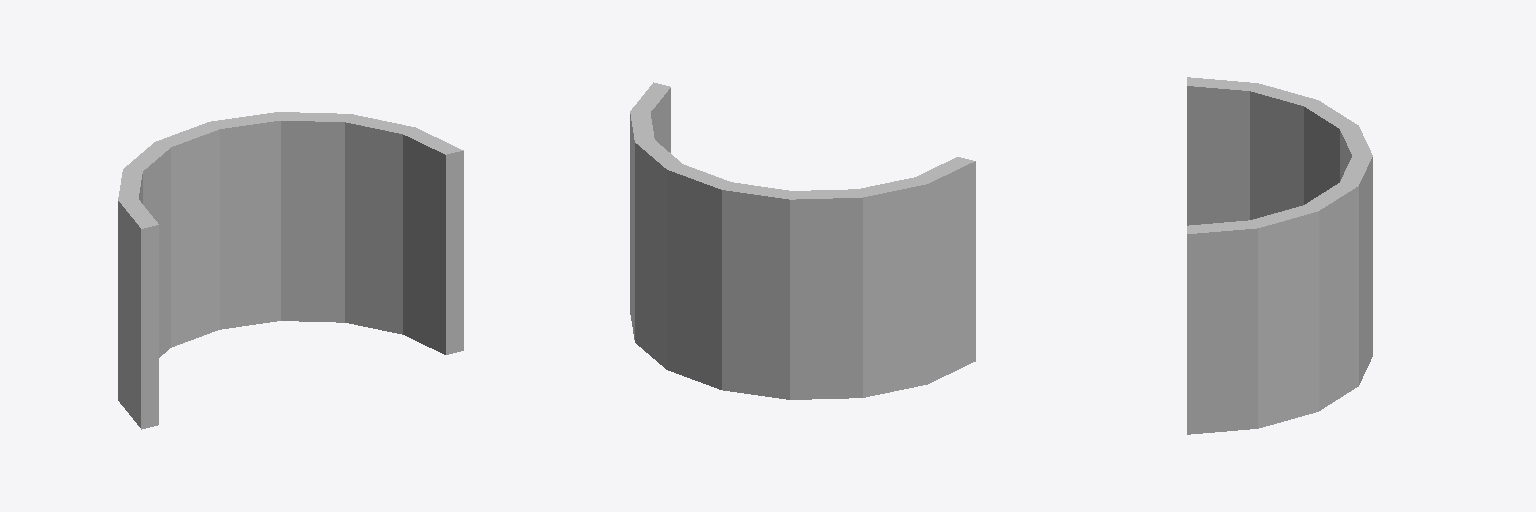
File: col_boss_shield_inner.obj
3 views of the same model, side by side, from view 1: azimuth 30°, elevation 25°; view 2: azimuth 150°, elevation 25°; view 3: azimuth 270°, elevation 25° (orthographic).
Parts seen in each view (by area): view 1: Cylinder.003_Cylinder.009; view 2: Cylinder.003_Cylinder.009; view 3: Cylinder.003_Cylinder.009.
Boxes of the visible parts, x1,y1,x2,y2 form: Cylinder.003_Cylinder.009: [118, 112, 463, 429]; Cylinder.003_Cylinder.009: [630, 82, 975, 399]; Cylinder.003_Cylinder.009: [1187, 77, 1372, 434].
Bounding box in the file's own units: 3.36 × 2 × 1.68.